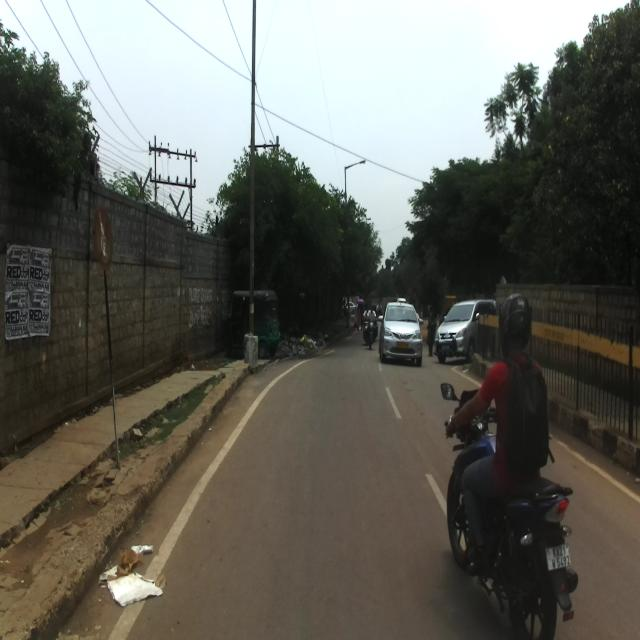car ahead at: (378, 293, 425, 369)
electric pole ahead at: (241, 1, 270, 372)
motorcycle ahead at: (438, 368, 577, 640)
sign board ahead at: (89, 202, 114, 270)
